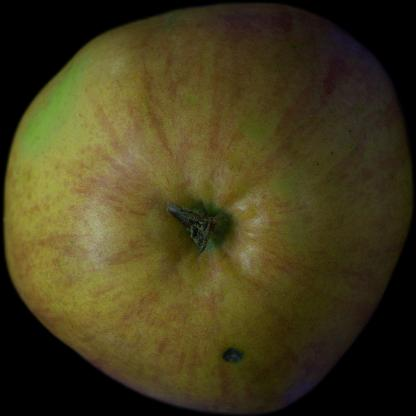defect: (212, 312, 260, 382)
